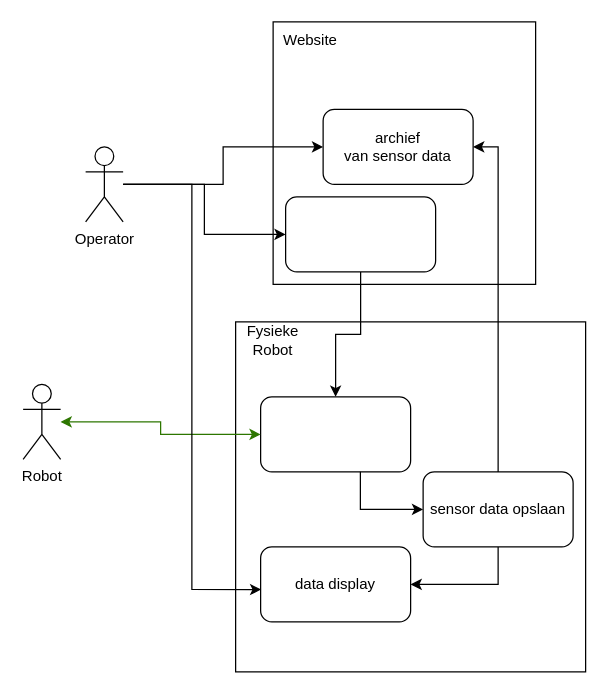
This 608x694 diagram has some shape labels left out. The shapes that lost their labels are listed below. From the top down, each one's centre as x and y in pixels, then its label:
point (360, 234): Besturing
point (335, 434): Sensoren besturing
